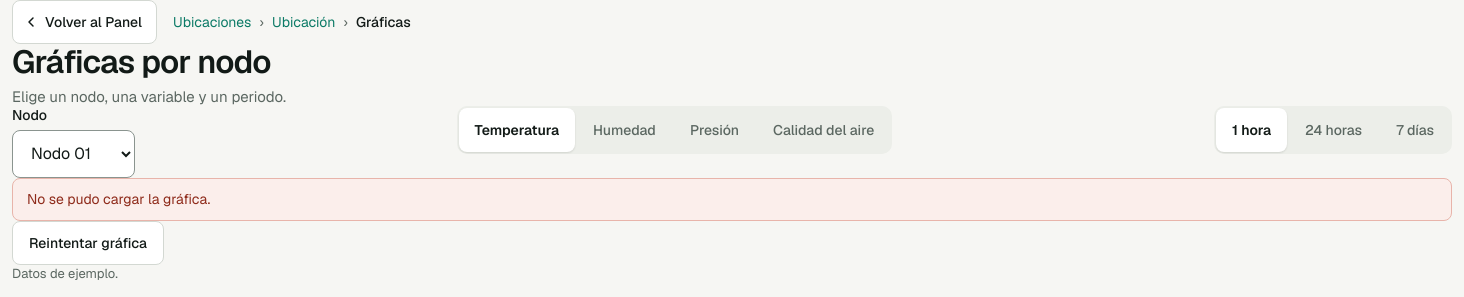
Gráficas › permite reintentar la serie y muestra periodos vacíos
Expected: the message reads "No se pudo cargar la gráfica.", [27,190,210,208]
Click the button "Reintentar gráfica": x=88, y=243 [12,221,164,265]
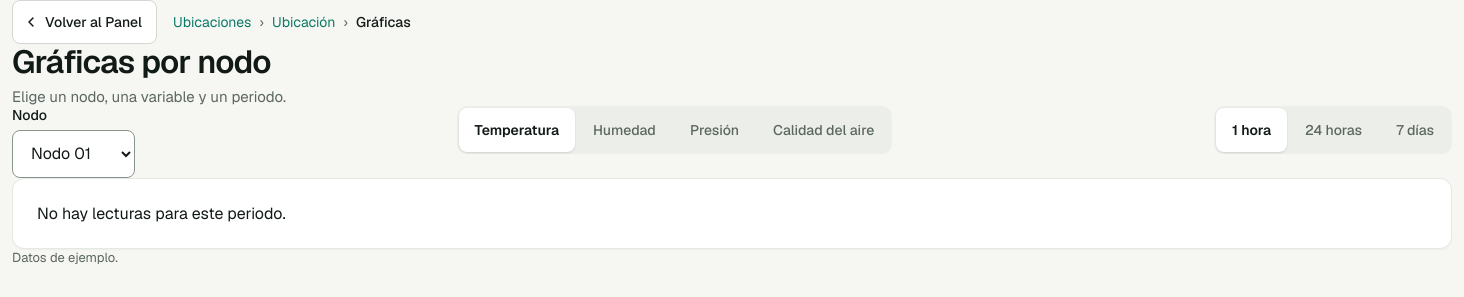
Expected: the text "No hay lecturas para este periodo." is shown, [12,178,1452,249]
